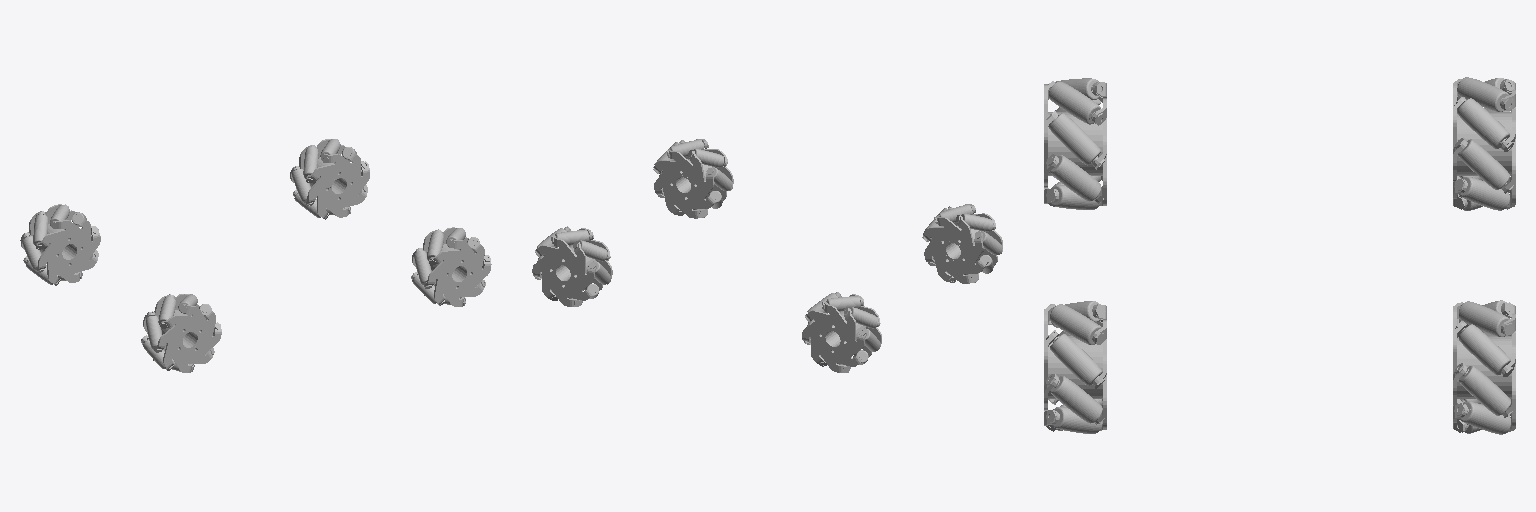
The robot description file, URDF, robot "gh23":
<?xml version="1.0" encoding="utf-8"?>
<!-- This URDF was automatically created by SolidWorks to URDF Exporter! Originally created by Stephen Brawner (brawner@gmail.com) 
     Commit Version: 1.6.0-4-g7f85cfe  Build Version: 1.6.7995.38578
     For more information, please see http://wiki.ros.org/sw_urdf_exporter -->
<robot
  name="gh23">
  <link
    name="base_link">
    <inertial>
      <origin
        xyz="0 0 0"
        rpy="0 0 0" />
      <mass
        value="7" />
      <inertia
        ixx="0.001"
        ixy="0"
        ixz="0"
        iyy="0.001"
        iyz="0"
        izz="0.001" />
    </inertial>
    <visual>
      <origin
        xyz="0 0 0"
        rpy="0 0 0" />
      <geometry>
        <mesh
          filename="package://gh23/meshes/base_link.STL" />
      </geometry>
      <material
        name="">
        <color
          rgba="0.79216 0.81961 0.93333 1" />
      </material>
    </visual>
    <collision>
      <origin
        xyz="0 0 0"
        rpy="0 0 0" />
      <geometry>
        <mesh
          filename="package://gh23/meshes/base_link.STL" />
      </geometry>
    </collision>
  </link>
  <link
    name="welkananbawah">
    <inertial>
      <origin
        xyz="0 0 0"
        rpy="0 0 0" />
      <mass
        value="0.6" />
      <inertia
        ixx="0.001"
        ixy="0"
        ixz="0"
        iyy="0.001"
        iyz="0"
        izz="0.001" />
    </inertial>
    <visual>
      <origin
        xyz="0 0 0"
        rpy="0 0 0" />
      <geometry>
        <mesh
          filename="package://gh23/meshes/welkananbawah.STL" />
      </geometry>
      <material
        name="">
        <color
          rgba="0.75294 0.75294 0.75294 1" />
      </material>
    </visual>
    <collision>
      <origin
        xyz="0 0 0"
        rpy="0 0 0" />
      <geometry>
        <mesh
          filename="package://gh23/meshes/welkananbawah.STL" />
      </geometry>
    </collision>
  </link>
  <joint
    name="rodakananbawah"
    type="continuous">
    <origin
      xyz="-0.19987 -0.15483 -0.0044227"
      rpy="1.5708 0 1.5708" />
    <parent
      link="base_link" />
    <child
      link="welkananbawah" />
    <axis
      xyz="0 1 0" />
    <limit
      effort="100"
      velocity="20" />
    <dynamics
      damping="2"
      friction="0.8" />
  </joint>
  <link
    name="welkananatas">
    <inertial>
      <origin
        xyz="0 0 0"
        rpy="0 0 0" />
      <mass
        value="0.6" />
      <inertia
        ixx="0.001"
        ixy="0"
        ixz="0"
        iyy="0.001"
        iyz="0"
        izz="0.001" />
    </inertial>
    <visual>
      <origin
        xyz="0 0 0"
        rpy="0 0 0" />
      <geometry>
        <mesh
          filename="package://gh23/meshes/welkananatas.STL" />
      </geometry>
      <material
        name="">
        <color
          rgba="0.75294 0.75294 0.75294 1" />
      </material>
    </visual>
    <collision>
      <origin
        xyz="0 0 0"
        rpy="0 0 0" />
      <geometry>
        <mesh
          filename="package://gh23/meshes/welkananatas.STL" />
      </geometry>
    </collision>
  </link>
  <joint
    name="rodakananatas"
    type="continuous">
    <origin
      xyz="0.20013 -0.15483 -0.0044227"
      rpy="0 -1.5708 0" />
    <parent
      link="base_link" />
    <child
      link="welkananatas" />
    <axis
      xyz="0 1 0" />
    <limit
      effort="100"
      velocity="20" />
    <dynamics
      damping="2"
      friction="0.8" />
  </joint>
  <link
    name="welkiriatas">
    <inertial>
      <origin
        xyz="0 0 0"
        rpy="0 0 0" />
      <mass
        value="0.6" />
      <inertia
        ixx="0.001"
        ixy="0"
        ixz="0"
        iyy="0.001"
        iyz="0"
        izz="0.001" />
    </inertial>
    <visual>
      <origin
        xyz="0 0 0"
        rpy="0 0 0" />
      <geometry>
        <mesh
          filename="package://gh23/meshes/welkiriatas.STL" />
      </geometry>
      <material
        name="">
        <color
          rgba="0.75294 0.75294 0.75294 1" />
      </material>
    </visual>
    <collision>
      <origin
        xyz="0 0 0"
        rpy="0 0 0" />
      <geometry>
        <mesh
          filename="package://gh23/meshes/welkiriatas.STL" />
      </geometry>
    </collision>
  </link>
  <joint
    name="rodakiriatas"
    type="continuous">
    <origin
      xyz="0.20013 0.15442 -0.0044227"
      rpy="1.5708 -1.5708 0" />
    <parent
      link="base_link" />
    <child
      link="welkiriatas" />
    <axis
      xyz="0 1 0" />
    <limit
      effort="100"
      velocity="20" />
    <dynamics
      damping="2"
      friction="0.8" />
  </joint>
  <link
    name="welkiribawah">
    <inertial>
      <origin
        xyz="0 0 0"
        rpy="0 0 0" />
      <mass
        value="0.6" />
      <inertia
        ixx="0.001"
        ixy="0"
        ixz="0"
        iyy="0.001"
        iyz="0"
        izz="0.001" />
    </inertial>
    <visual>
      <origin
        xyz="0 0 0"
        rpy="0 0 0" />
      <geometry>
        <mesh
          filename="package://gh23/meshes/welkiribawah.STL" />
      </geometry>
      <material
        name="">
        <color
          rgba="0.75294 0.75294 0.75294 1" />
      </material>
    </visual>
    <collision>
      <origin
        xyz="0 0 0"
        rpy="0 0 0" />
      <geometry>
        <mesh
          filename="package://gh23/meshes/welkiribawah.STL" />
      </geometry>
    </collision>
  </link>
  <joint
    name="rodakiribawah"
    type="continuous">
    <origin
      xyz="-0.19987 0.15442 -0.0044227"
      rpy="-1.5413 0 -1.5708" />
    <parent
      link="base_link" />
    <child
      link="welkiribawah" />
    <axis
      xyz="0 1 0" />
    <limit
      effort="100"
      velocity="20" />
    <dynamics
      damping="2"
      friction="0.8" />
  </joint>
</robot>

--- What the picture shows (computed from the rendered views, not written in the file) ---
3 views of the same robot in one strip: view 1: azimuth 30°, elevation 25°; view 2: azimuth 150°, elevation 25°; view 3: azimuth 270°, elevation 25° (orthographic).
Robot: gh23 — 5 links, 4 joints (4 continuous); root link base_link; default pose: every joint at zero.
Visible links, largest first — view 1: welkiribawah, welkananatas, welkananbawah, welkiriatas; view 2: welkananbawah, welkananatas, welkiriatas, welkiribawah; view 3: welkiribawah, welkiriatas, welkananatas, welkananbawah.
Link boxes in pixels (<box>): welkiribawah: <box>20,204,100,285</box>; welkananatas: <box>411,227,491,306</box>; welkananbawah: <box>141,294,221,372</box>; welkiriatas: <box>290,139,369,219</box>; welkananbawah: <box>922,204,1002,283</box>; welkananatas: <box>653,139,733,218</box>; welkiriatas: <box>532,226,612,306</box>; welkiribawah: <box>802,292,881,372</box>; welkiribawah: <box>1453,77,1515,210</box>; welkiriatas: <box>1453,300,1515,434</box>; welkananatas: <box>1044,301,1106,433</box>; welkananbawah: <box>1044,78,1106,209</box>.
Size in the robot's own frame: 0.5013 by 0.3565 by 0.1017 metres.
Meshes: 5 distinct files referenced, 4 mesh visuals loaded (4 binary STL); not drawn: 1 (reference not matched to a file when rendering).
